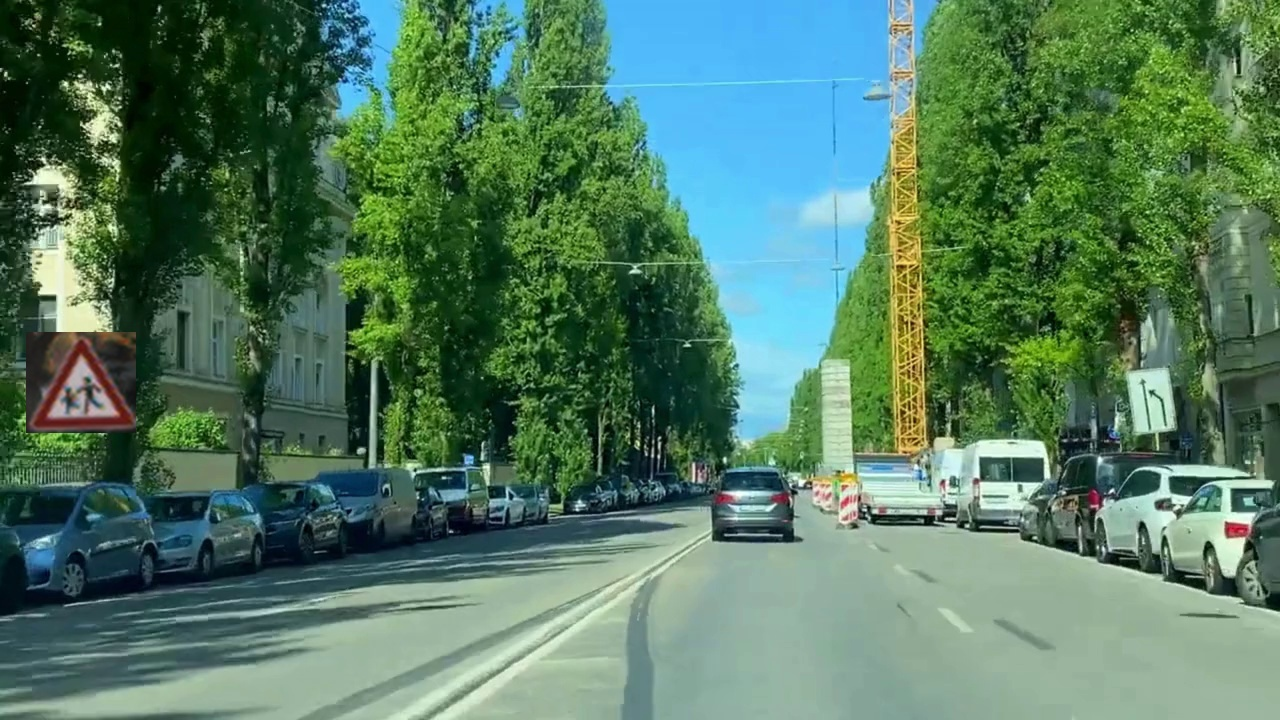Children: (26, 332, 136, 433)
